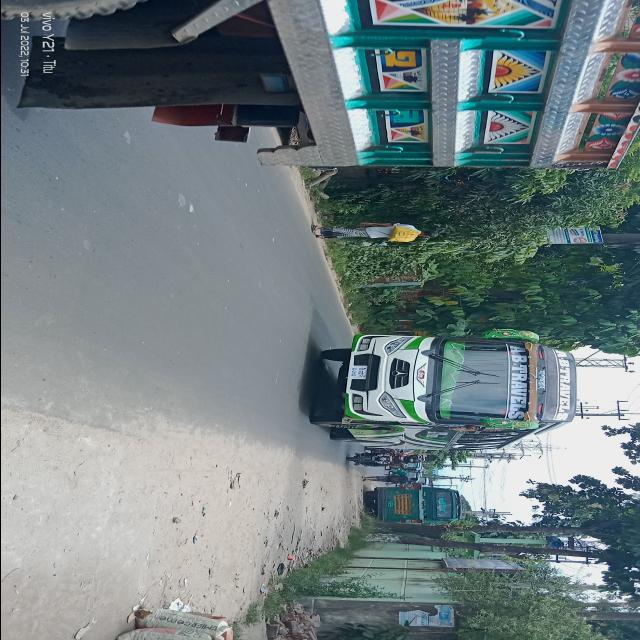bus: (305, 319, 585, 458)
